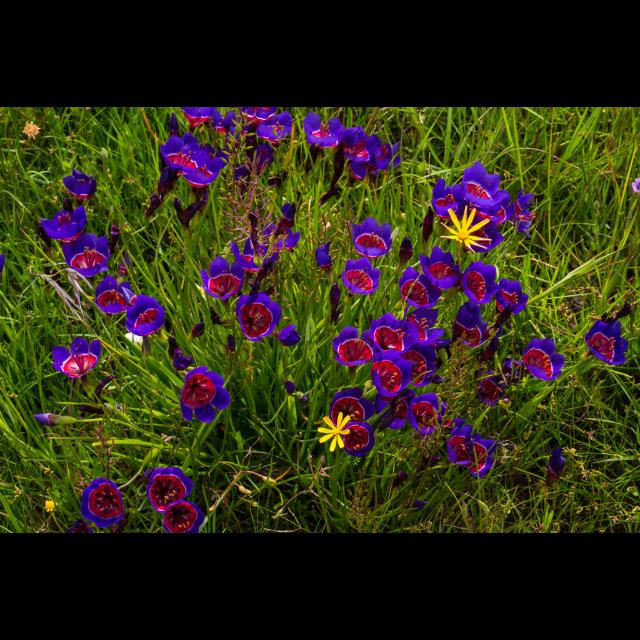Flower: (29, 107, 564, 533), (173, 368, 224, 424), (584, 313, 624, 363), (548, 454, 562, 486), (6, 484, 24, 506), (22, 122, 40, 140), (632, 175, 640, 193)
